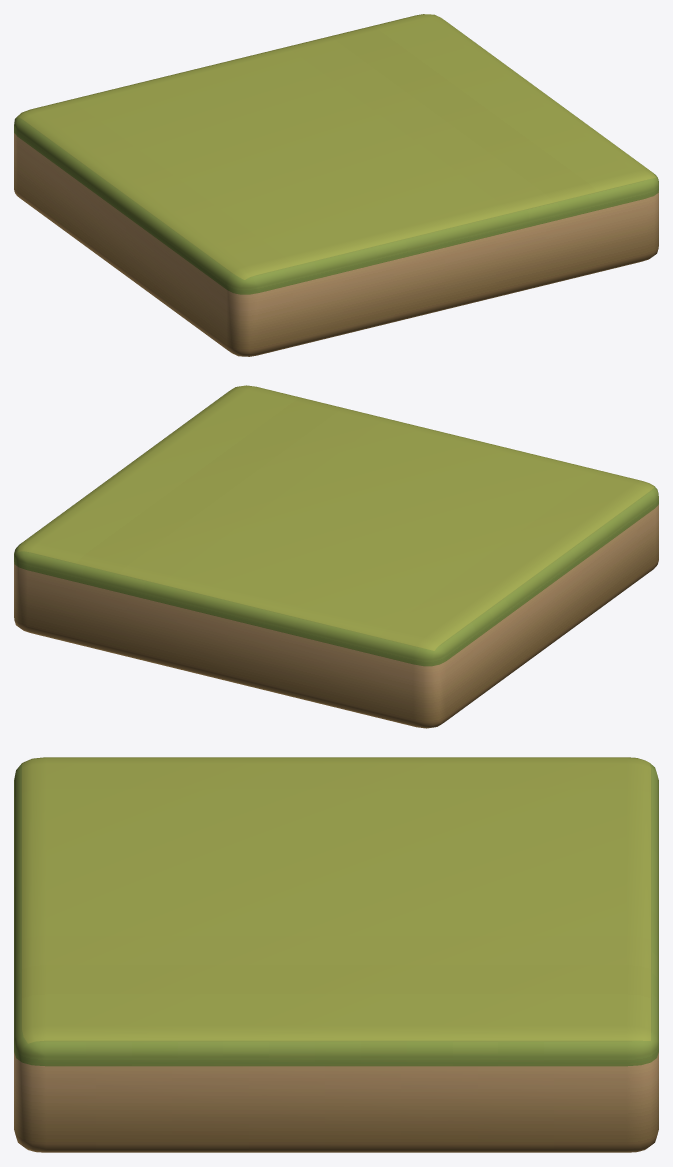
Rendered from Island_002.FBX.
3 renders of one model, top to bottom at view 1: azimuth 30°, elevation 25°; view 2: azimuth 150°, elevation 25°; view 3: azimuth 270°, elevation 25°, orthographic. The views are drawn at different scales.
Parts seen in each view (by area): view 1: Island_002; view 2: Island_002; view 3: Island_002.
Part boxes in pixels (x1,y1,x2,y2): Island_002: [14, 14, 658, 356]; Island_002: [14, 385, 658, 728]; Island_002: [14, 757, 658, 1152].
Size of the model in its own units: 1.01 by 0.9444 by 0.1945.
